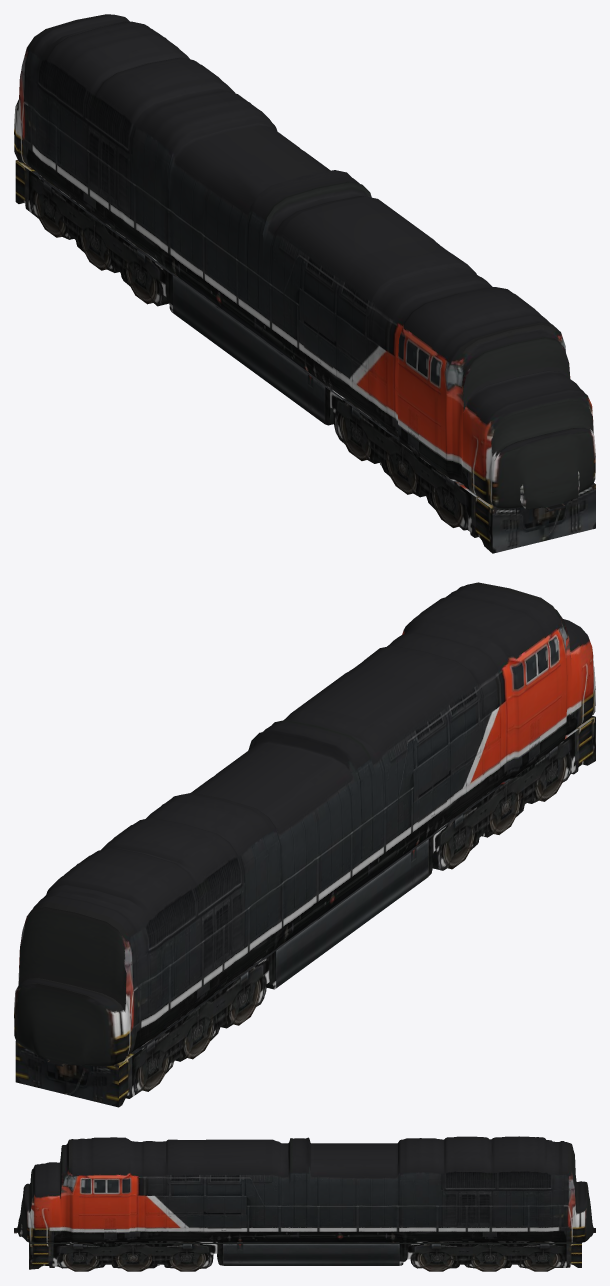
The model's file is tr_loco_cn.glb.
3 renders of one model, top to bottom at view 1: azimuth 30°, elevation 25°; view 2: azimuth 150°, elevation 25°; view 3: azimuth 270°, elevation 25°, orthographic. The views are drawn at different scales.
Visible parts, largest first — view 1: body; view 2: body; view 3: body.
Boxes of the visible parts, box(x1,y1,x2,y2) form: body: box(14, 14, 595, 553); body: box(14, 582, 595, 1107); body: box(14, 1136, 595, 1271).
Bounding box in the file's own units: 3.07 × 4.66 × 21.87.
Materials: 1 (1 with a texture image).
